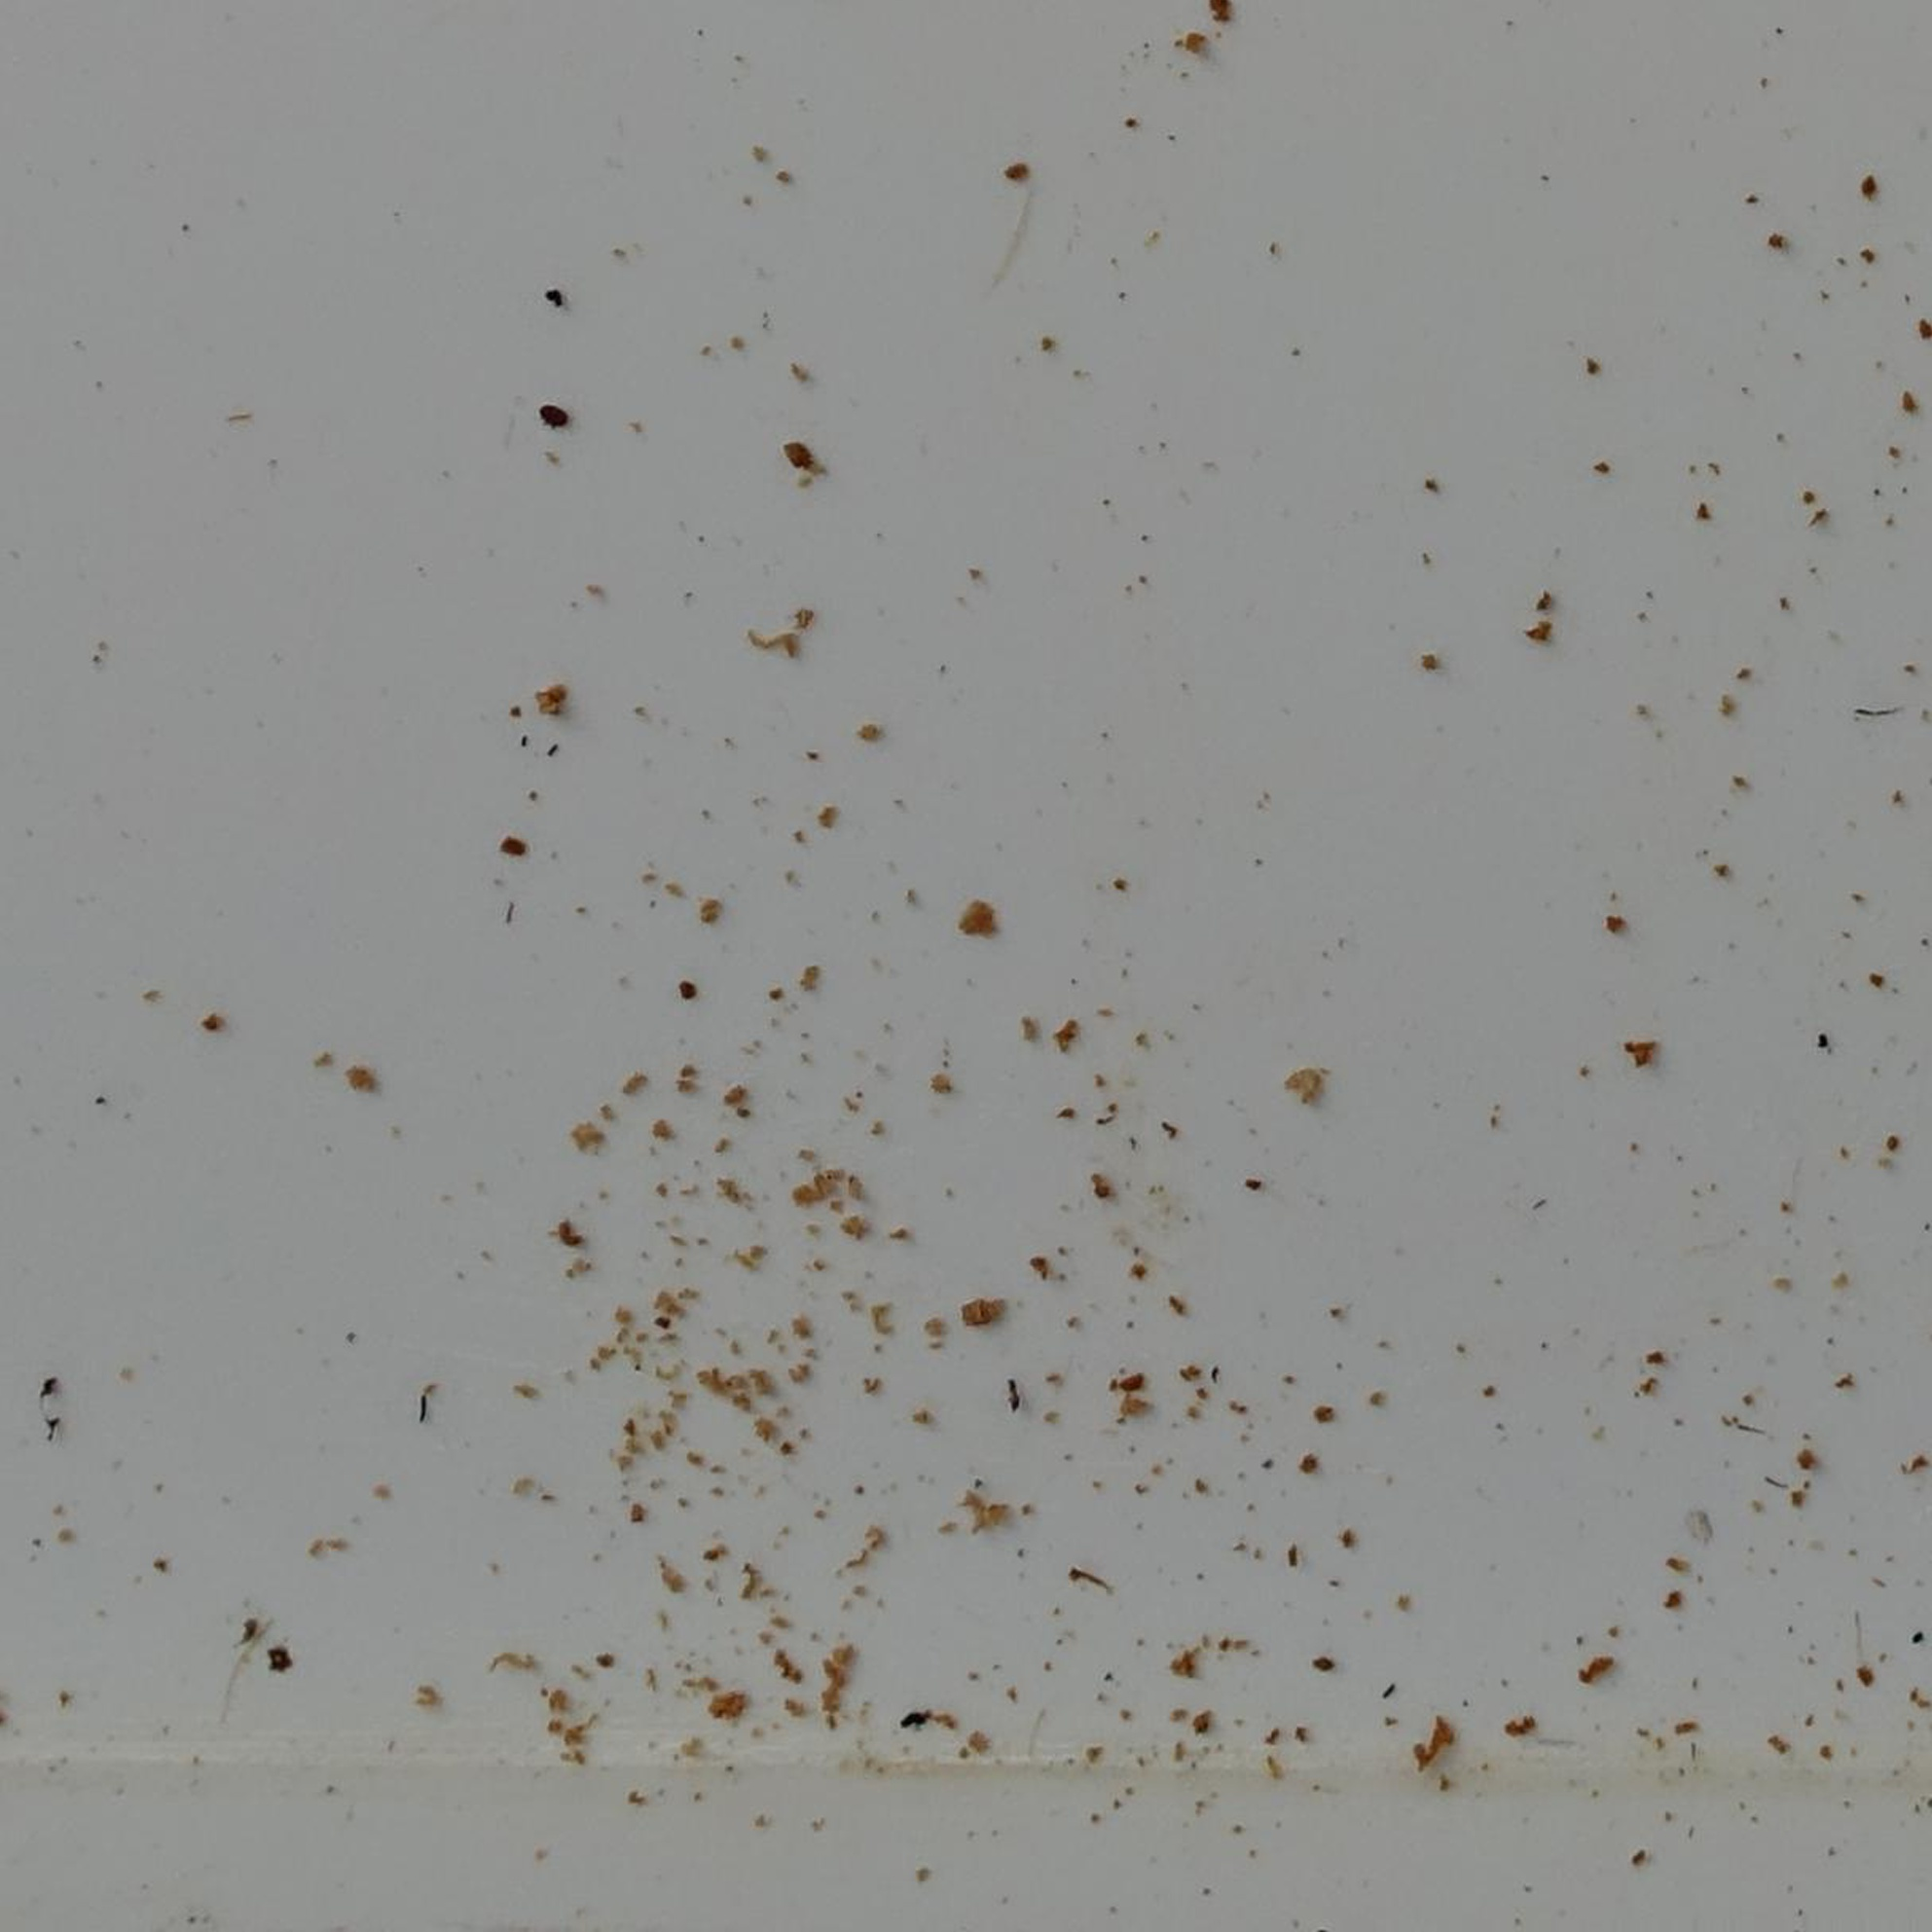Varroa: (536, 400, 564, 426)
